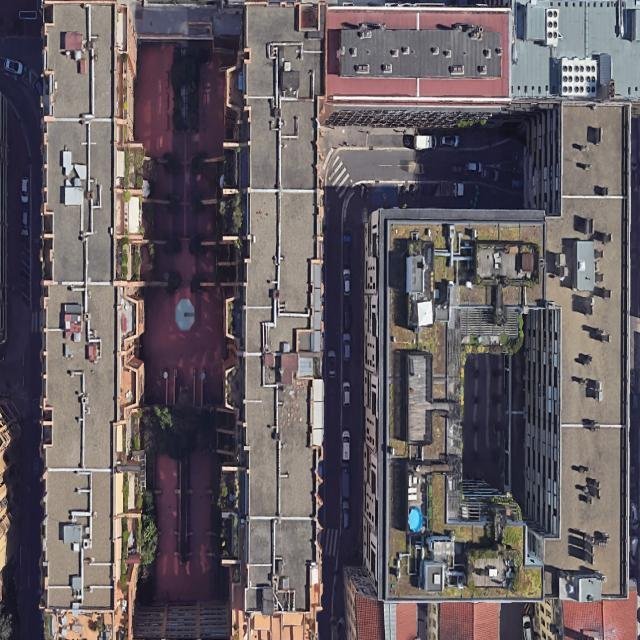immeuble: (363, 204, 629, 613), (221, 1, 329, 638), (34, 0, 126, 613), (324, 7, 510, 111), (511, 0, 640, 99), (561, 105, 628, 200)
